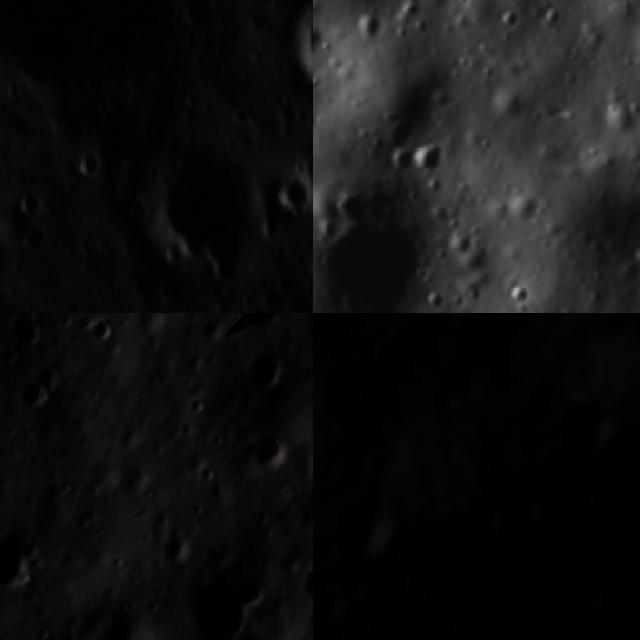crater: (0, 0, 158, 94), (142, 140, 250, 268), (313, 192, 426, 313), (178, 567, 267, 640), (557, 388, 629, 470), (331, 493, 405, 569), (274, 0, 313, 90), (0, 530, 40, 598), (84, 601, 149, 640), (239, 347, 287, 395), (500, 480, 542, 534), (263, 172, 310, 219), (379, 105, 428, 150), (373, 611, 444, 640), (464, 490, 505, 540), (243, 430, 291, 472), (1, 179, 46, 220), (171, 0, 218, 39), (61, 139, 100, 184), (560, 474, 600, 517), (289, 131, 313, 202), (0, 313, 45, 350), (11, 372, 49, 414), (411, 138, 448, 177), (85, 313, 122, 350), (154, 524, 188, 564), (438, 227, 475, 263), (504, 191, 544, 224), (13, 220, 48, 254), (472, 595, 506, 630), (385, 148, 419, 181), (313, 589, 346, 622), (505, 279, 536, 310), (508, 313, 548, 337), (420, 285, 452, 313), (266, 272, 295, 299), (194, 461, 220, 487), (295, 244, 313, 281), (301, 559, 313, 599), (630, 517, 640, 552)
